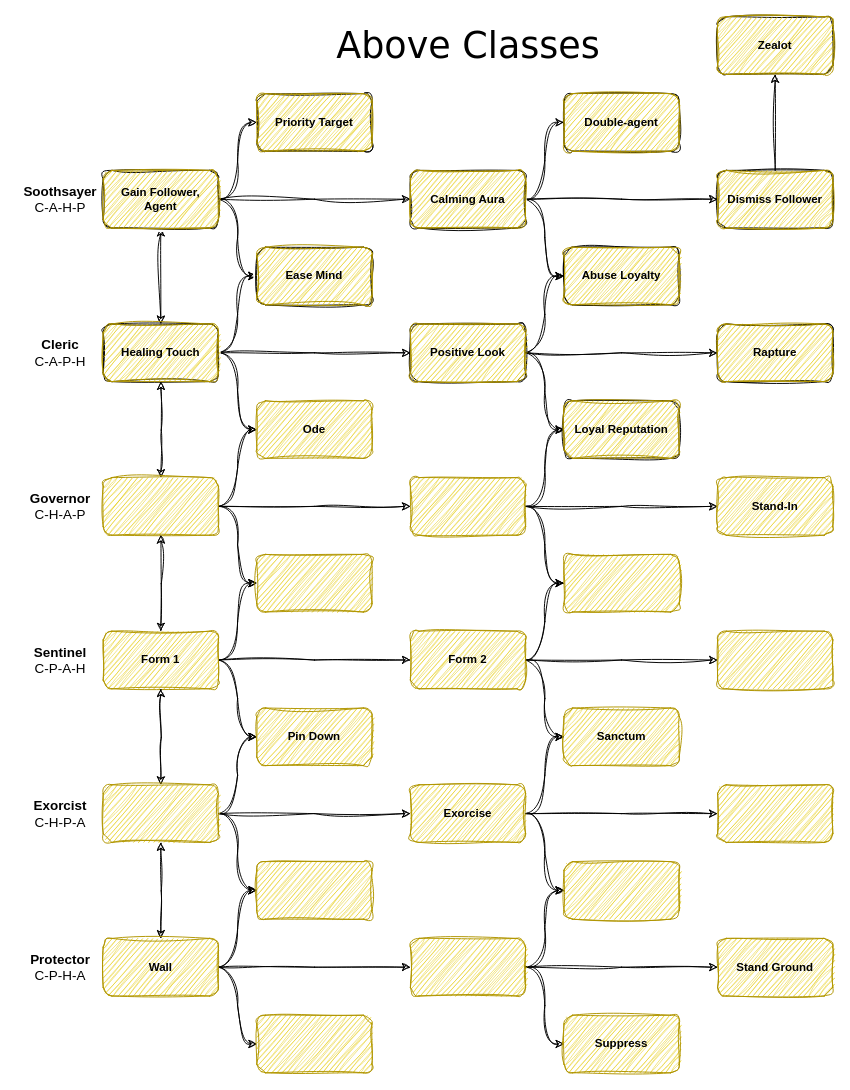
Some shapes in this 850 by 1090 pixel diagram are drawn without their labels. The shapes that lost their labels are listed below. From the top down, each one's box as (x1, y1, x2, y2) in pixels, then its label:
(102, 477, 218, 535): Gain Follower, Multitude
(409, 477, 526, 535): Improved Follower
(256, 553, 372, 612): Sidestep
(563, 553, 679, 612): Step Up
(717, 630, 833, 689): Form 3
(102, 784, 218, 842): Decay
(717, 784, 833, 842): Vampiric Link
(256, 861, 372, 919): Blood-link
(563, 861, 679, 919): Cast Out
(409, 937, 526, 996): Lower Hand
(256, 1014, 372, 1073): Long Arm
